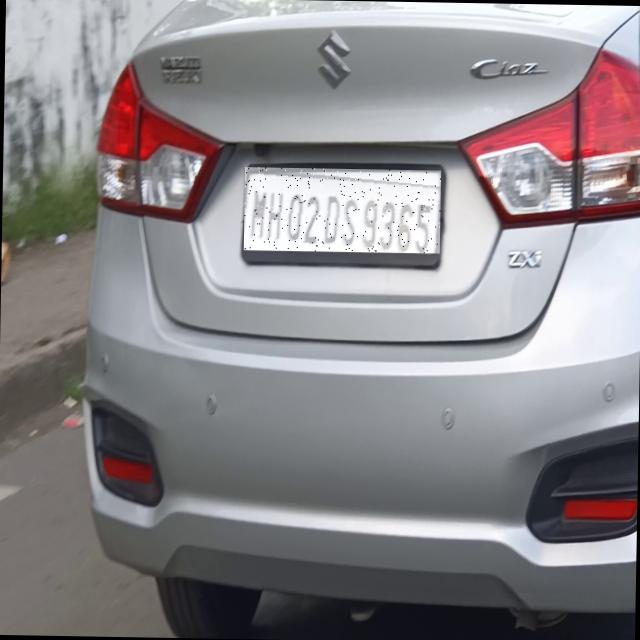Plate: (245, 168, 442, 254)
